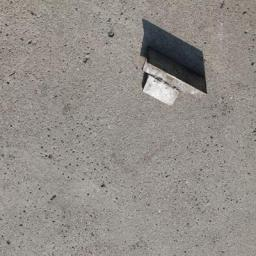FOD: (133, 42, 211, 113)
